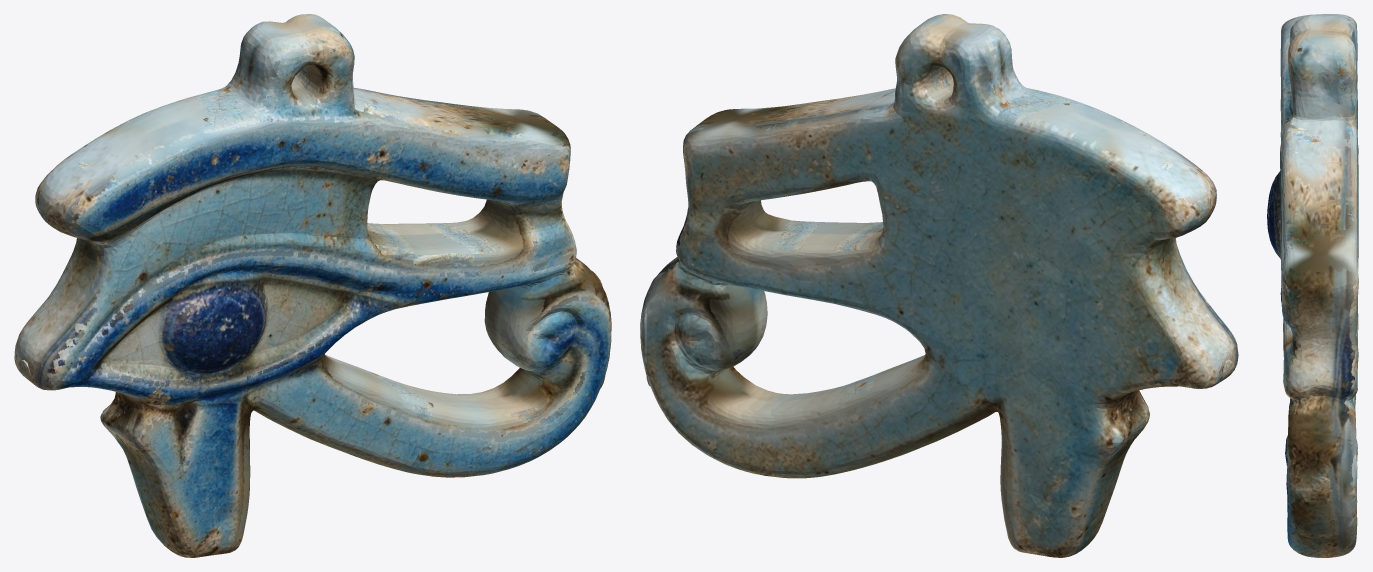
File: amulet_01_udjat.glb
3 renders of one model, left to right at view 1: azimuth 30°, elevation 25°; view 2: azimuth 150°, elevation 25°; view 3: azimuth 270°, elevation 25°, orthographic. The views are drawn at different scales.
Bounding box in the file's own units: 1 × 0.8278 × 0.1544.
1 material, 1 textured.
